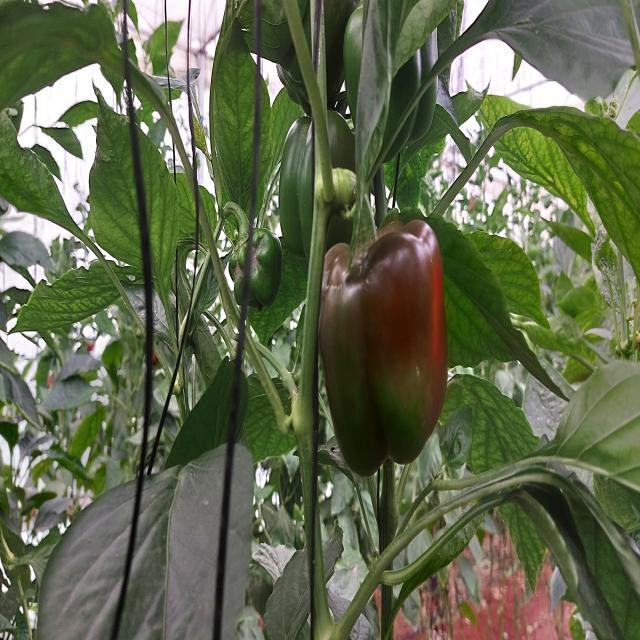BrownishRed--Can-be-Harvested: (314, 213, 442, 478)
